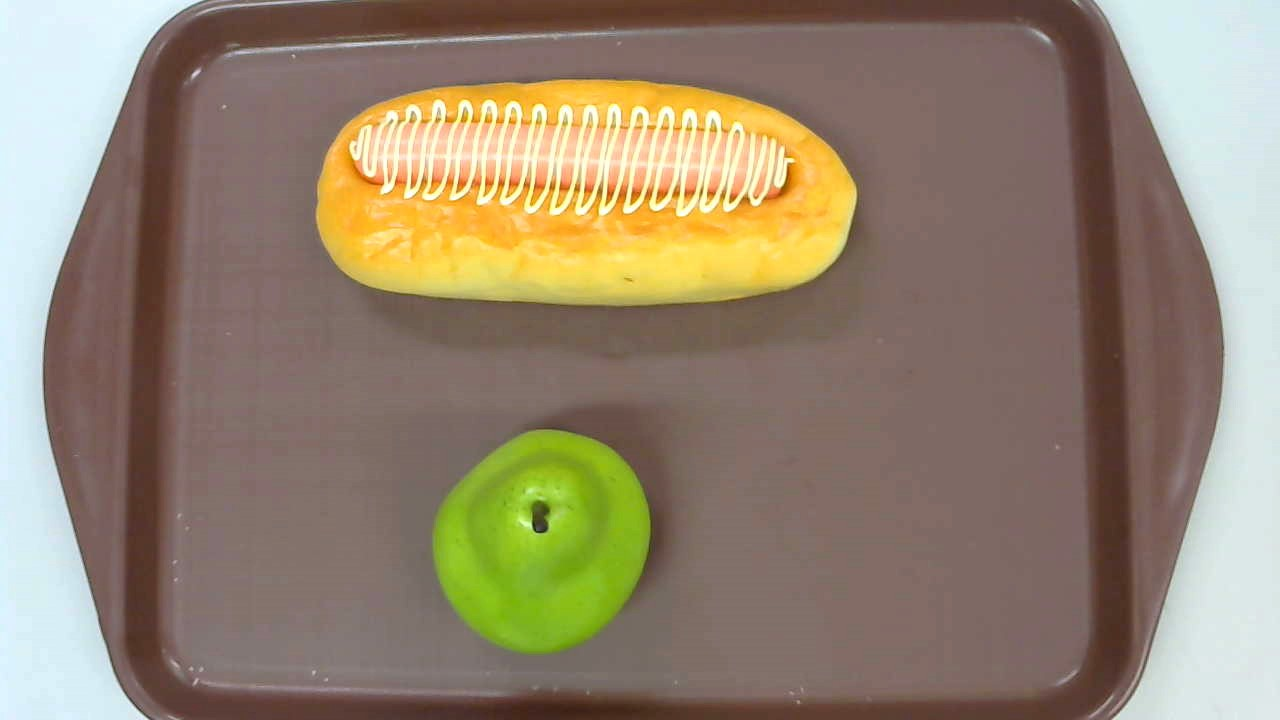green pear: (432, 426, 650, 655)
hot dog: (315, 78, 857, 309)
